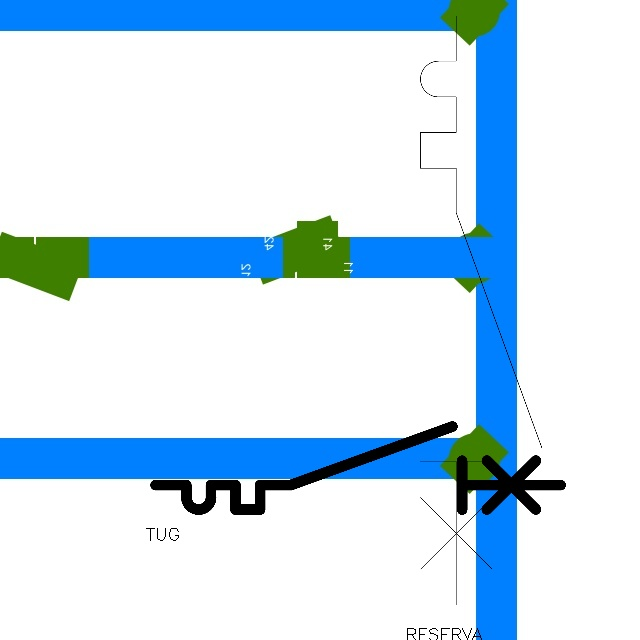interruptor_termomagnetico: (405, 1, 556, 620), (145, 416, 571, 520)
